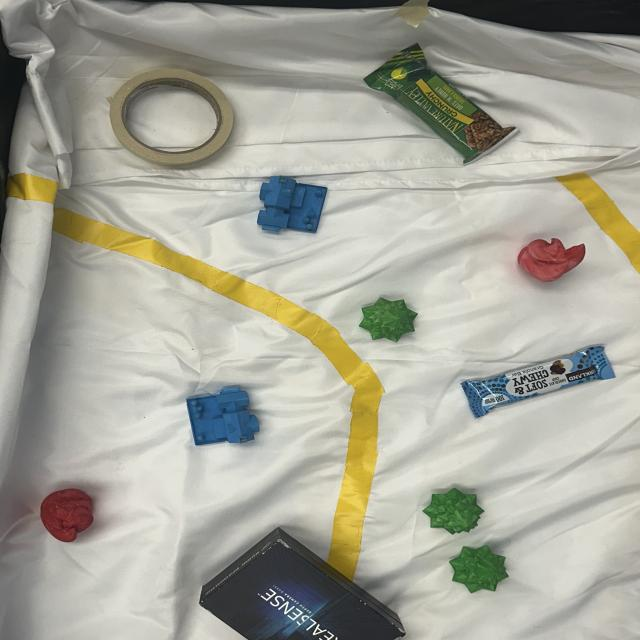fire: (514, 235, 588, 283), (42, 488, 98, 540)
house: (184, 386, 263, 447), (258, 173, 331, 236)
tree: (423, 484, 484, 537), (447, 544, 510, 593), (358, 295, 422, 343)
